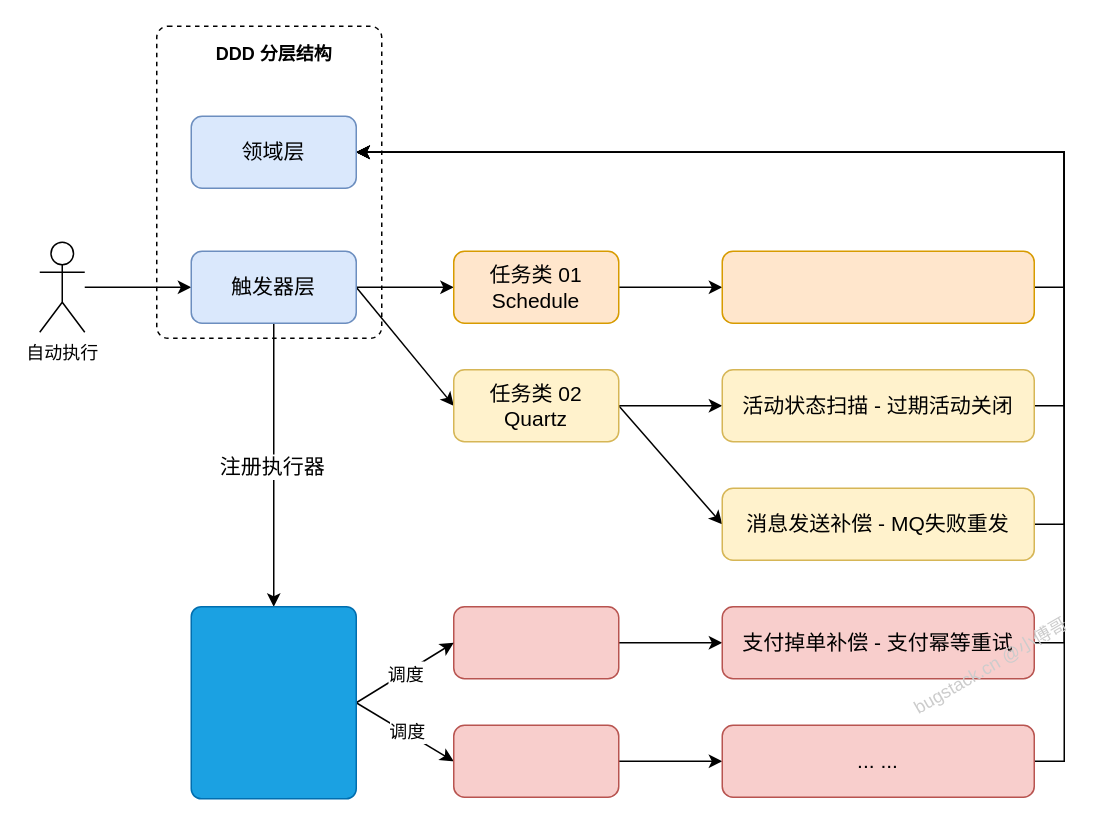
The diagram is 1113 pixels wide and 825 high, and some of its shapes have lost their labels. The shapes that lost their labels are listed below. From the top down, each one's centre as x and y in pixels, then its label:
At pixel 877 286: "定时清理数据 - 冷数据迁移".
At pixel 535 642: "任务类 03 XXL-Job".
At pixel 273 702: "XXL-Job-Admin 调度中心".
At pixel 535 760: "任务类 04 XXL-Job".
